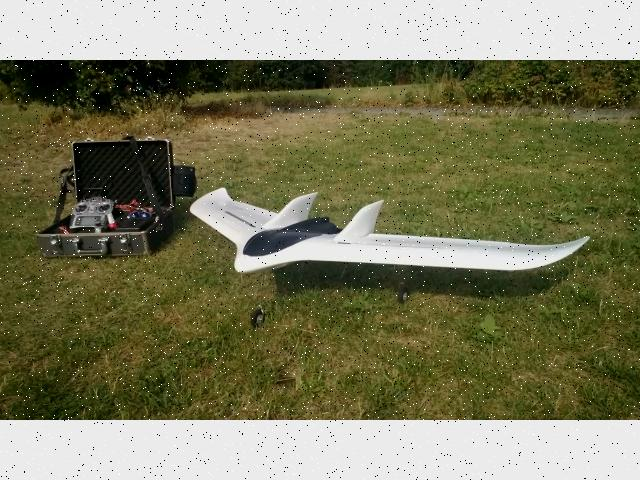Anti-Drone: (170, 159, 598, 299)
